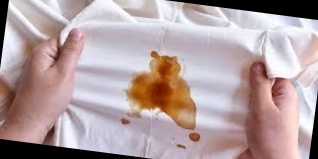coffee: (122, 49, 211, 144)
